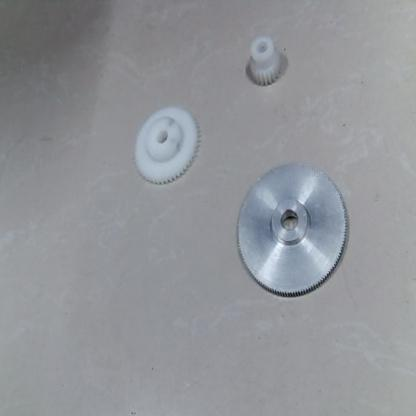FOD: (235, 159, 350, 301), (127, 104, 208, 184), (245, 36, 283, 86)
